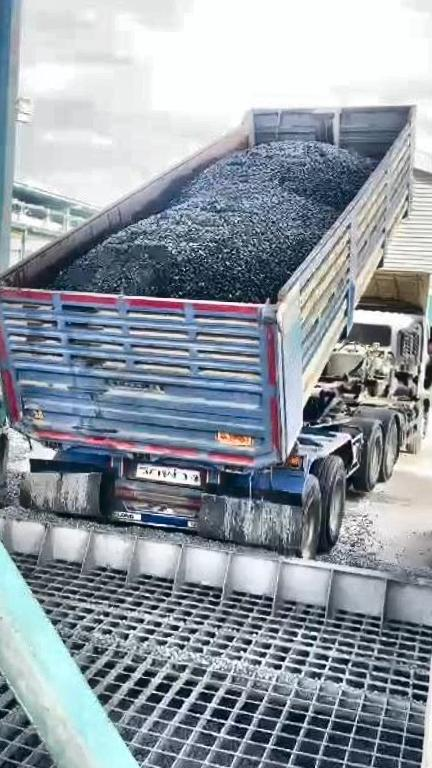gravel: (55, 140, 374, 301)
